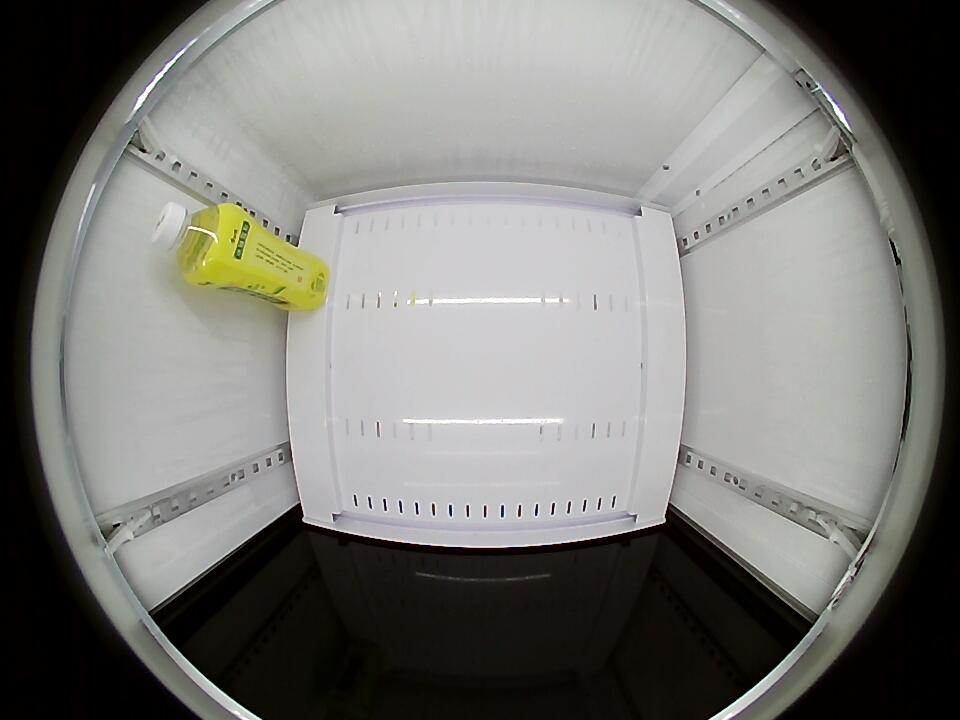bingtangxueli: (151, 201, 245, 286)
